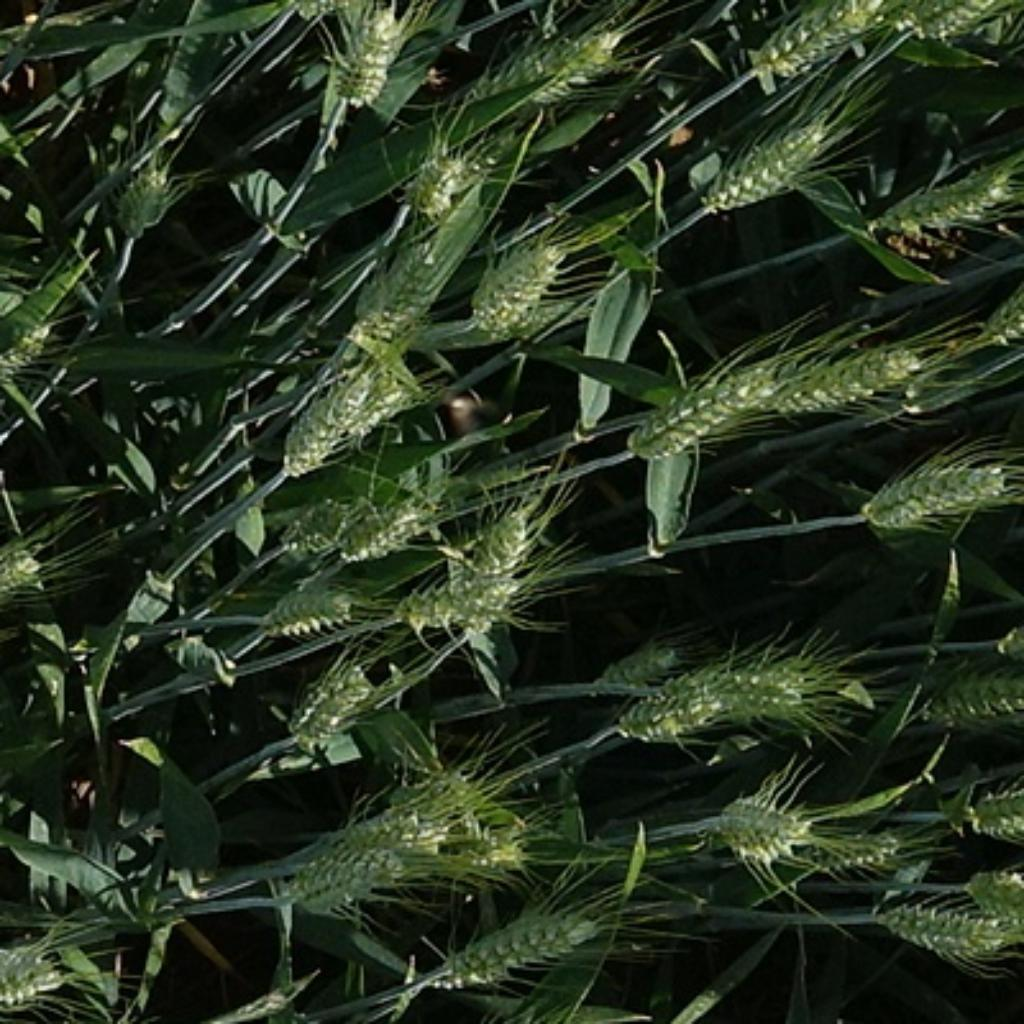0-0: (593, 629, 844, 744), (614, 327, 796, 468), (261, 337, 417, 473), (423, 899, 615, 996), (332, 227, 453, 363), (455, 212, 578, 343), (863, 145, 1024, 245), (693, 102, 839, 212), (857, 445, 1018, 529), (788, 330, 942, 414), (465, 26, 621, 108), (396, 560, 532, 645), (755, 2, 898, 81), (281, 647, 386, 752), (463, 499, 550, 624), (703, 784, 823, 871), (297, 800, 470, 860), (881, 899, 1024, 971), (322, 9, 414, 111), (394, 135, 494, 227), (0, 277, 71, 405), (282, 846, 408, 917), (348, 488, 460, 563), (785, 816, 908, 878), (922, 674, 1023, 742), (104, 156, 186, 238), (256, 575, 361, 639), (274, 485, 358, 563), (588, 638, 688, 702), (0, 929, 66, 1008), (959, 785, 1024, 854)
